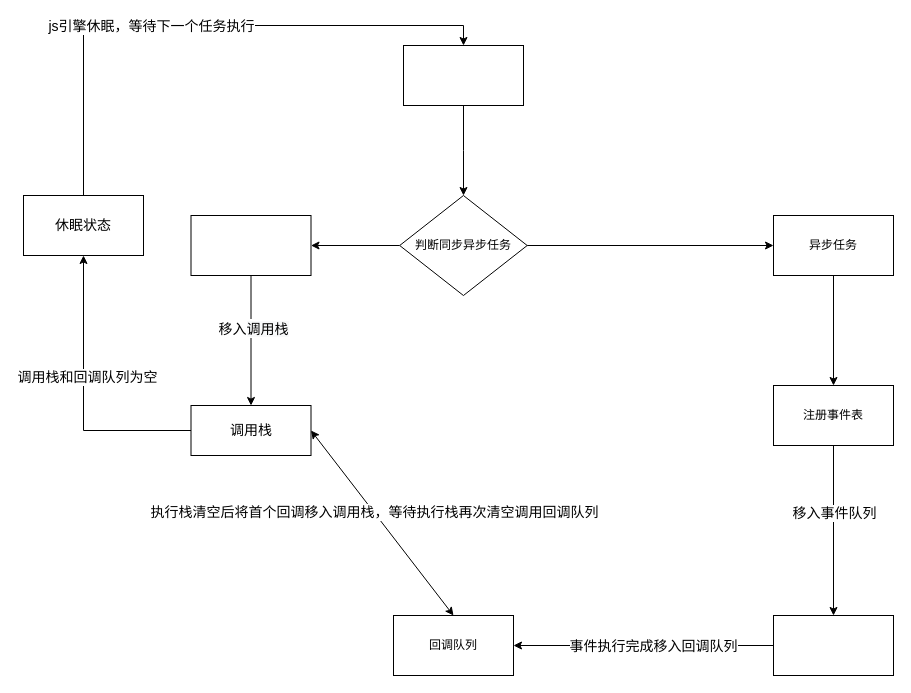
This 911x693 diagram has some shape labels left out. The centre of each missing label's shape, as x and y in pixels:
"事件队列" belongs at point 833,645.
"同步任务" belongs at point 250,245.
"等待任务" belongs at point 463,75.
